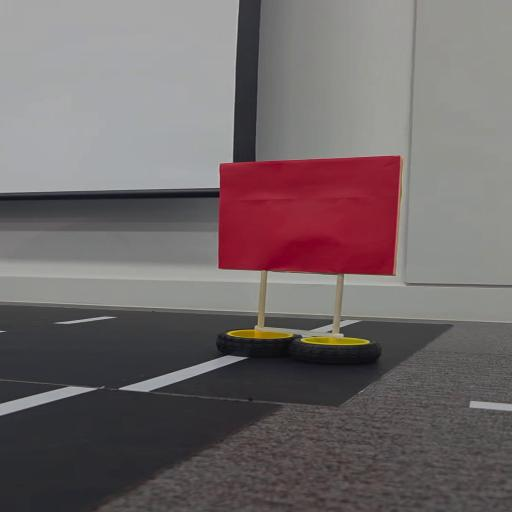Sign_A: (210, 151, 413, 368)
